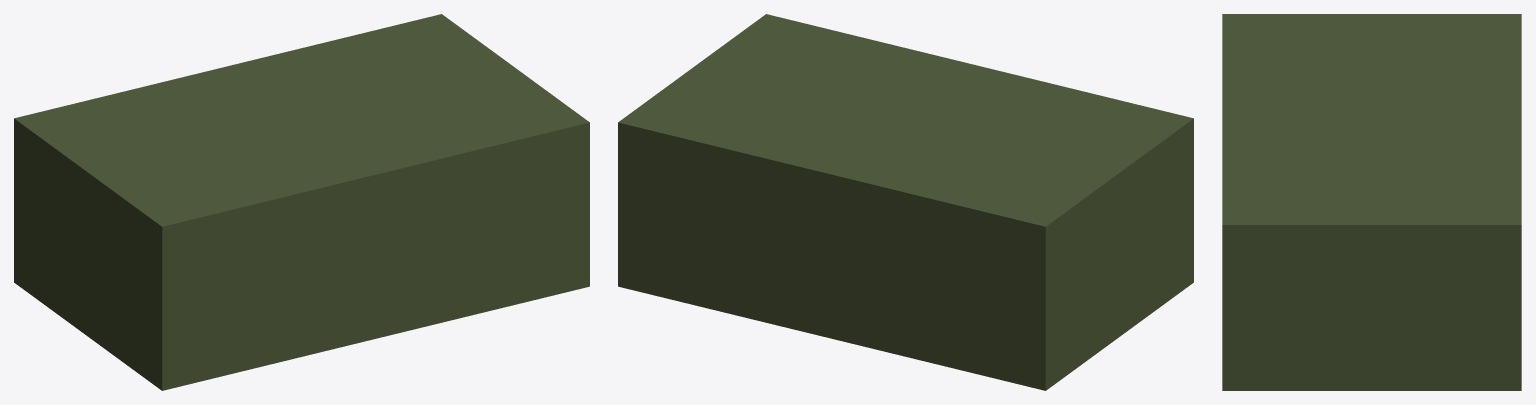
File: battery.dae
3 renders of one model, left to right at view 1: azimuth 30°, elevation 25°; view 2: azimuth 150°, elevation 25°; view 3: azimuth 270°, elevation 25°, orthographic.
Visible parts, largest first — view 1: BatteryPack_48V_1kWh; view 2: BatteryPack_48V_1kWh; view 3: BatteryPack_48V_1kWh.
Boxes of the visible parts, <box> form: BatteryPack_48V_1kWh: <box>14,14,589,390</box>; BatteryPack_48V_1kWh: <box>618,14,1193,390</box>; BatteryPack_48V_1kWh: <box>1222,14,1521,390</box>.
Bounding box in the file's own units: 0.3 × 0.18 × 0.11.
